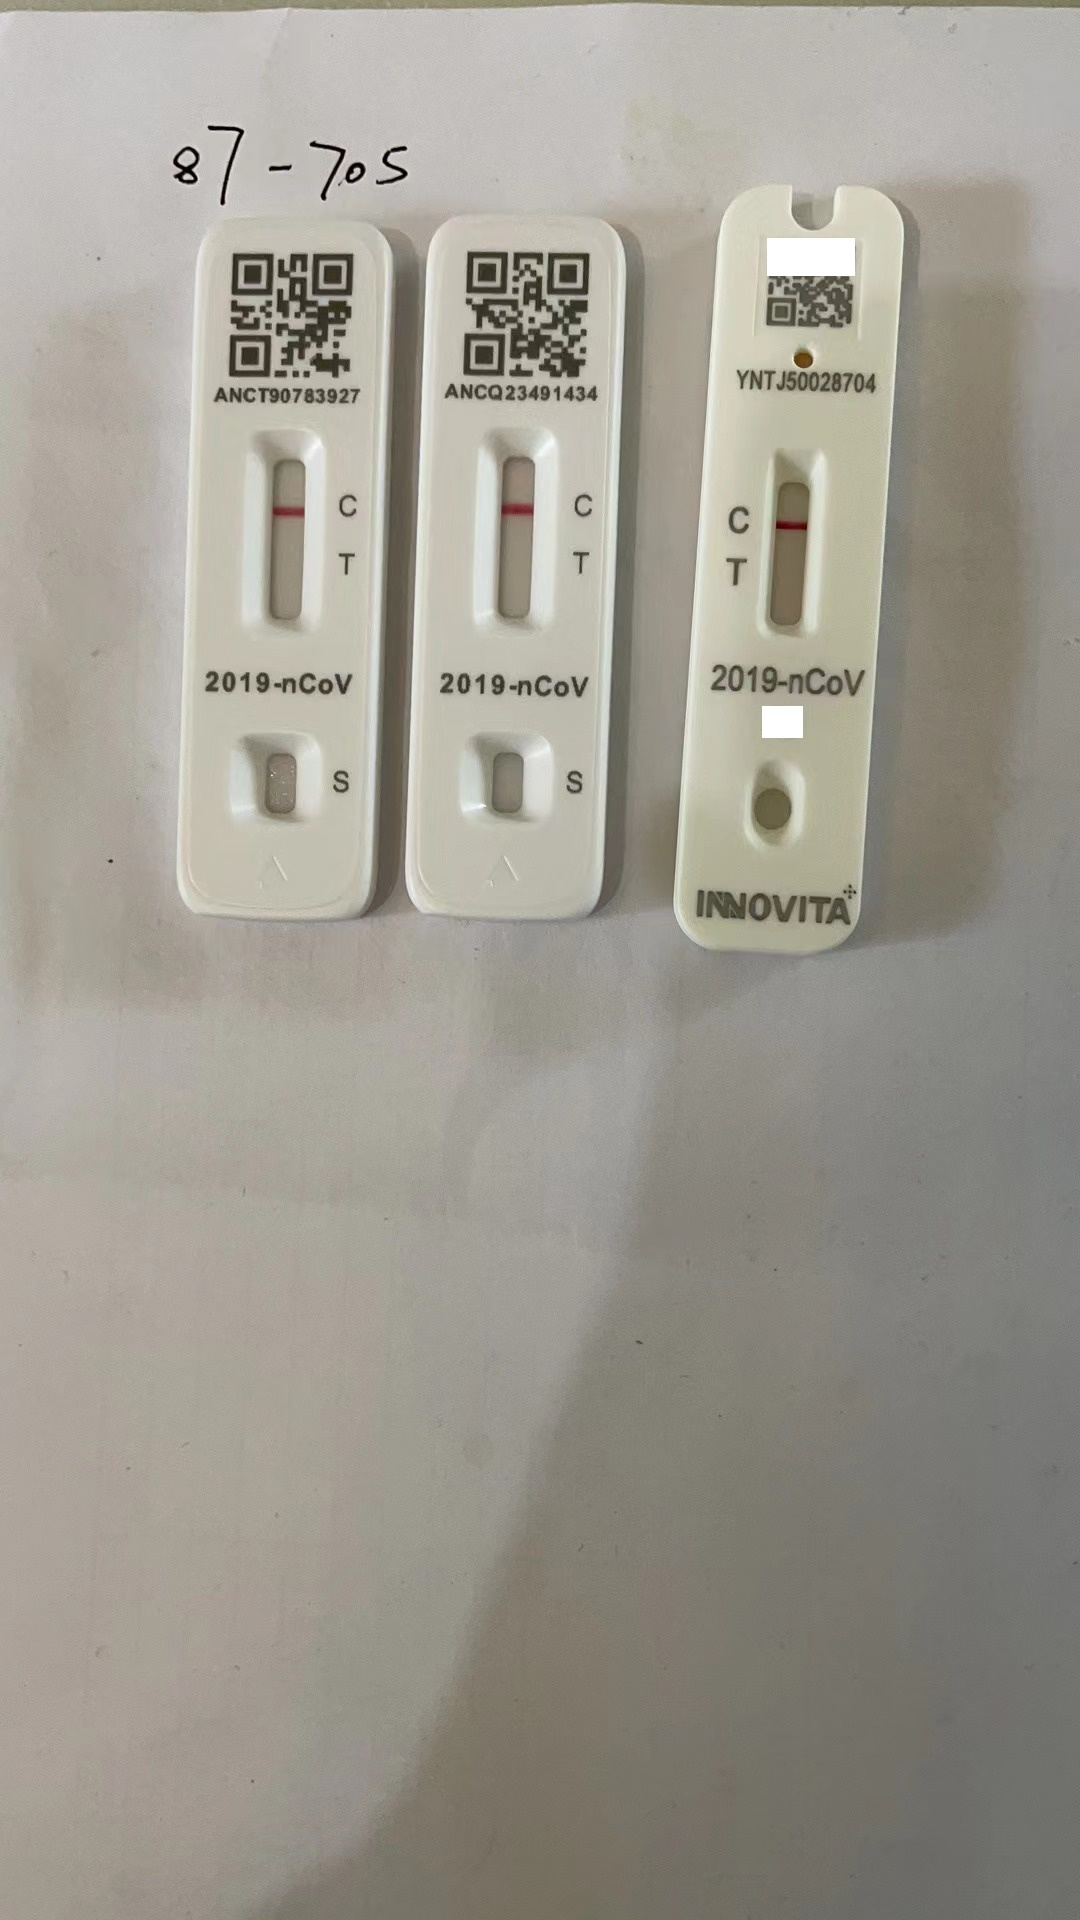negative: (247, 429, 326, 644), (477, 425, 555, 637), (764, 448, 828, 640)
